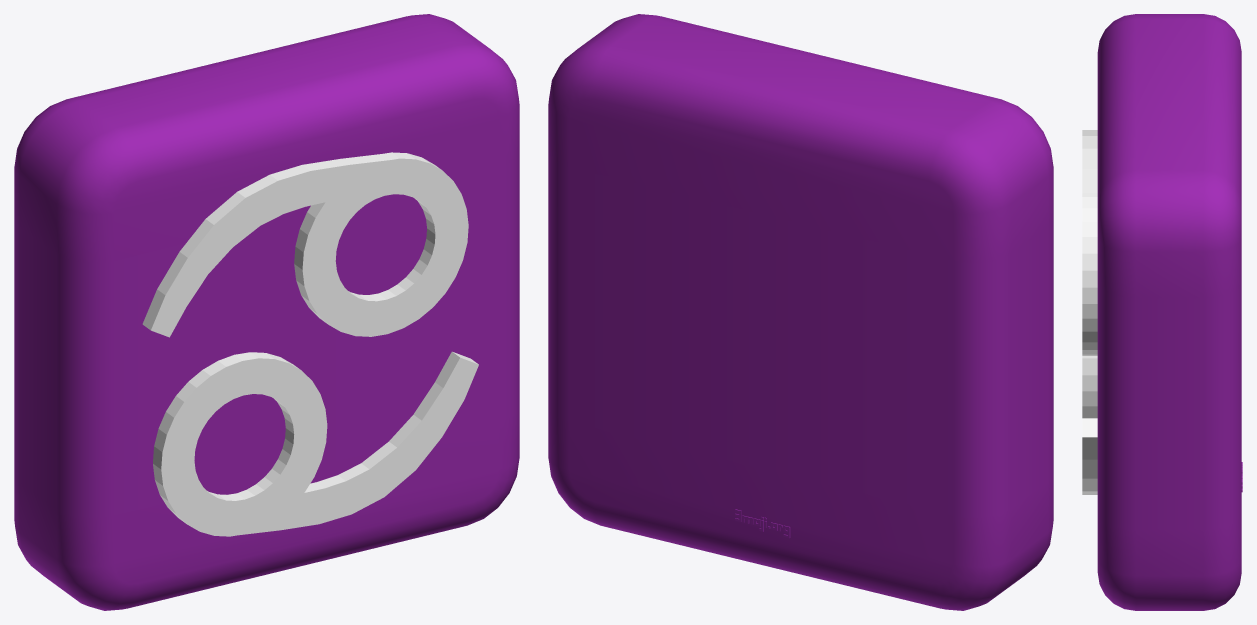
The model's file is cancer.glb.
3 renders of one model, left to right at view 1: azimuth 30°, elevation 25°; view 2: azimuth 150°, elevation 25°; view 3: azimuth 270°, elevation 25°, orthographic. The views are drawn at different scales.
Parts seen in each view (by area): view 1: Cube.6402; view 2: Cube.6402; view 3: Cube.6402.
Part boxes in pixels (box(x1,y1,x2,y2)): Cube.6402: box(14, 14, 519, 610); Cube.6402: box(548, 14, 1053, 610); Cube.6402: box(1082, 14, 1242, 610).
Size of the model in its own units: 2.2 by 2.2 by 0.7337.
1 material, 1 textured.
